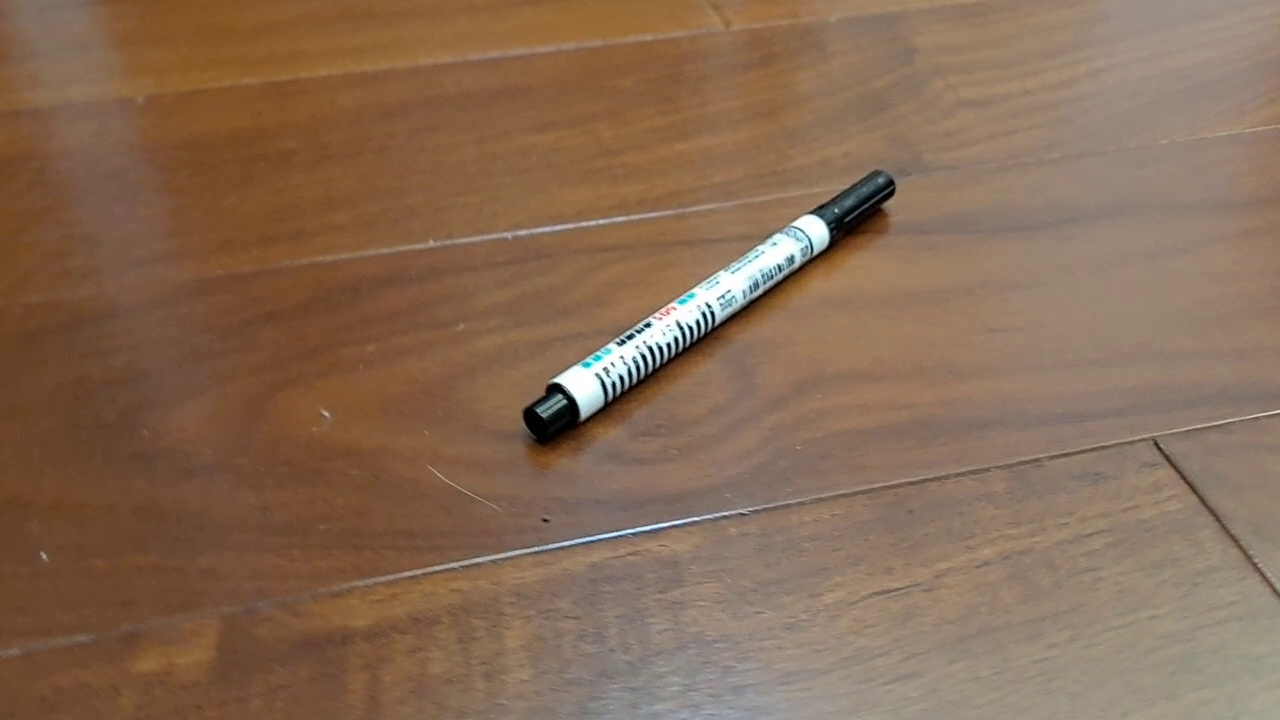pen: (522, 168, 897, 446)
